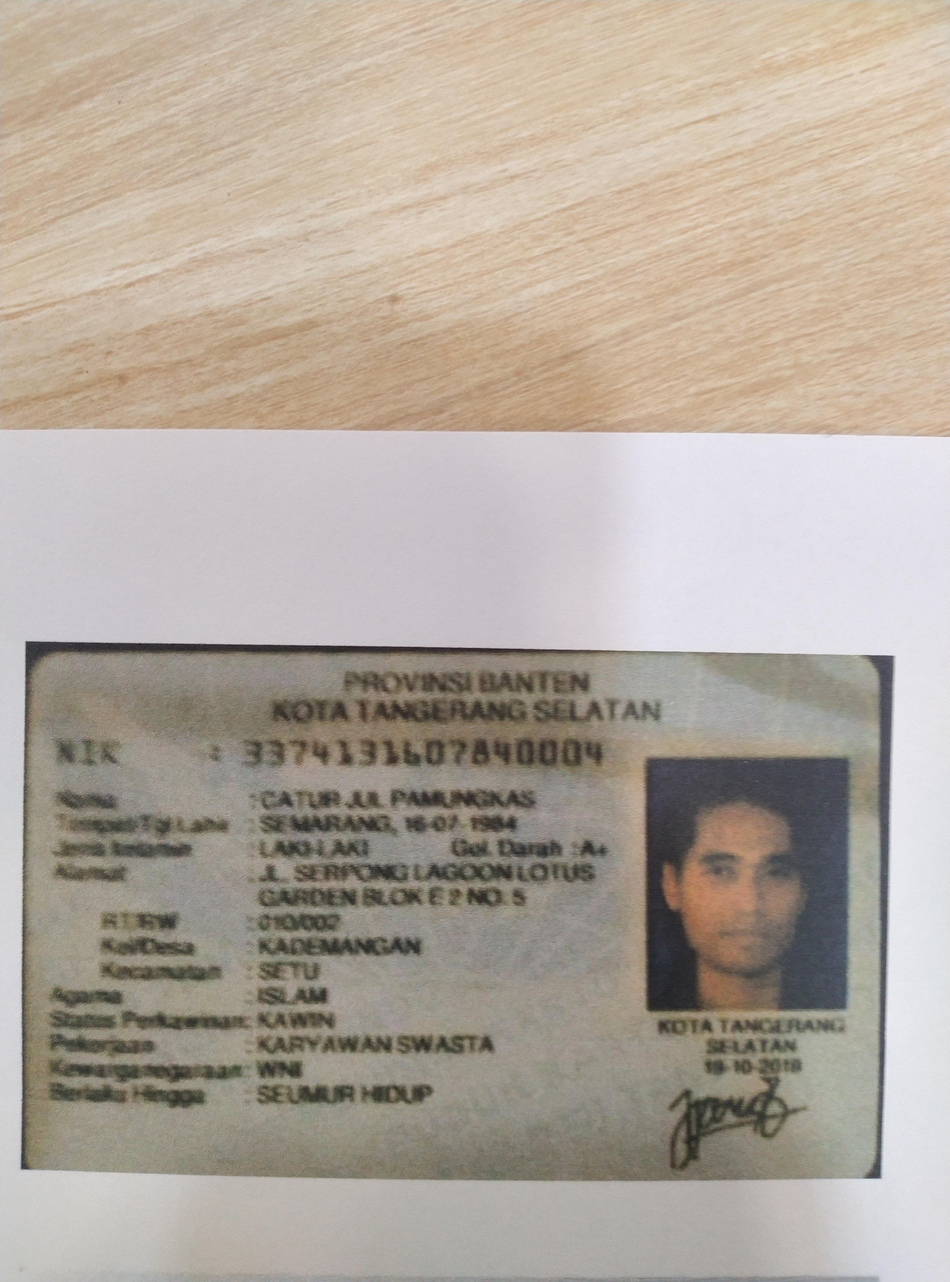ktp: (25, 647, 875, 1168)
